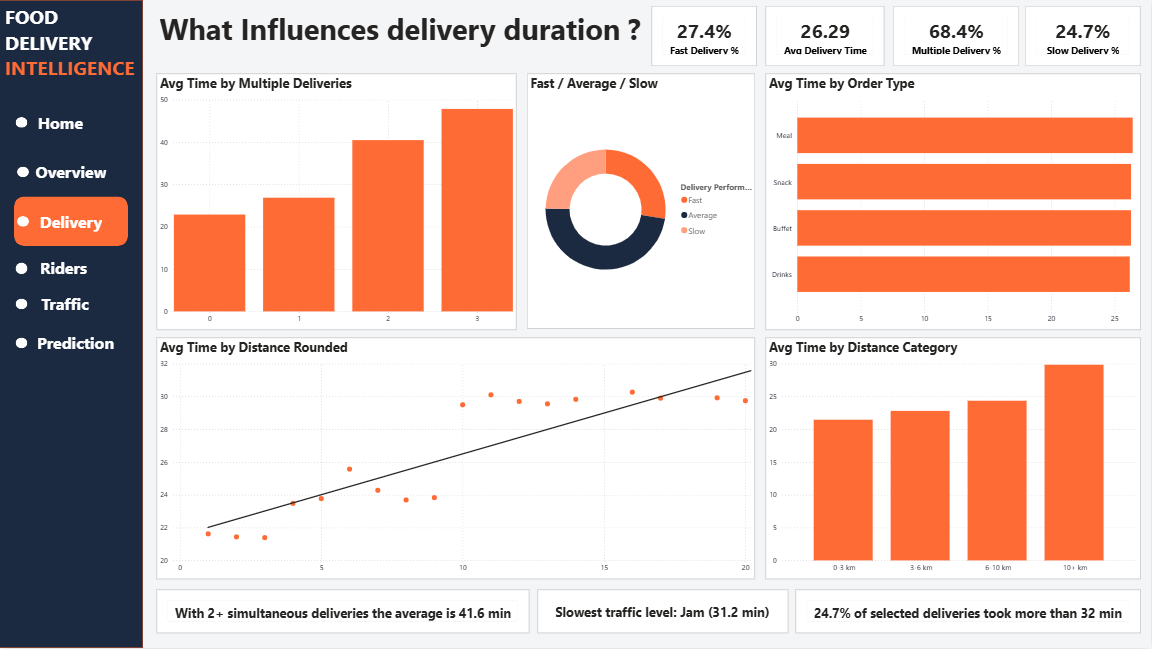

This screenshot's page, from the dashboard's own definition file:
{"tool":"powerbi","page":{"name":"Delivery","canvas":[1920,1080],"ordinal":2},"visuals":[{"type":"group","id":"g1","title":"Group 4","box":[0,0,241.2,1080],"z":0},{"type":"group","id":"g2","title":"Group 3","box":[0,0,241.2,1080],"z":0,"group":"g1"},{"type":"shape","box":[0,0,240,1080],"z":0,"group":"g3"},{"type":"shape","box":[8,162.5,190,82.5],"z":0,"group":"g5"},{"type":"shape","box":[25,245,190,82.5],"z":0,"group":"g4"},{"type":"shape","box":[25,327.5,190,82.5],"z":0,"group":"g6"},{"type":"shape","box":[13,401,190,90],"z":0,"group":"g7"},{"type":"shape","box":[15,465,190,82.5],"z":0,"group":"g8"},{"type":"shape","box":[31.4,530,190,82.5],"z":0,"group":"g9"},{"type":"textbox","box":[3.8,0,237.5,142.5],"z":1000,"group":"g3"},{"type":"shape","box":[29.1,195.4,20,18],"z":1000,"group":"g5"},{"type":"shape","box":[29.1,277.9,20,18],"z":1000,"group":"g4"},{"type":"shape","box":[29.1,360.4,20,18],"z":1000,"group":"g6"},{"type":"shape","box":[29.1,438.4,20,19.7],"z":1000,"group":"g7"},{"type":"shape","box":[28,497.9,20,18],"z":1000,"group":"g8"},{"type":"shape","box":[27.5,562.9,20,18],"z":1000,"group":"g9"},{"type":"cardVisual","fields":{"Data":["_Measures (2).Insight Multiple"]},"box":[262.5,982.5,621,72.5],"z":1000},{"type":"cardVisual","fields":{"Data":["_Measures (2).Insight Slow"]},"box":[1327.5,982.5,575,72.5],"z":2000},{"type":"cardVisual","fields":{"Data":["_Measures (2).Insight Traffic"]},"box":[897.5,982.5,418,72.5],"z":3000},{"type":"columnChart","title":"Avg Time by Distance Category","fields":{"Y":["_Measures (2).Avg Delivery Time"],"Category":["Fact Delivery.Distance Category"]},"box":[1277.5,562.5,625,402.5],"z":4000},{"type":"columnChart","title":"Avg Time by Multiple Deliveries","fields":{"Y":["_Measures (2).Avg Delivery Time"],"Category":["Fact Delivery.Multiple Deliveries"]},"box":[262.5,122.5,600,427.5],"z":5000},{"type":"group","id":"g3","title":"Group 1","box":[0,0,241.2,1080],"z":6000,"group":"g2"},{"type":"clusteredBarChart","title":"Avg Time by Order Type","fields":{"Category":["Fact Delivery.Order Type"],"Y":["_Measures (2).Avg Delivery Time"]},"box":[1277.5,122.5,625,427.5],"z":6000},{"type":"donutChart","title":"Fast / Average / Slow","fields":{"Category":["Fact Delivery.Delivery Performance"],"Y":["_Measures (2).Total Deliveries"]},"box":[880,122.5,380,425],"z":7000},{"type":"cardVisual","fields":{"Data":["_Measures (2).Avg Delivery Time"]},"box":[1277,10,198,100],"z":8000},{"type":"cardVisual","fields":{"Data":["_Measures (2).Multiple Delivery %"]},"box":[1490,10,210,100],"z":9000},{"type":"cardVisual","fields":{"Data":["_Measures (2).Fast Delivery %"]},"box":[1087.5,10,175,100],"z":10000},{"type":"cardVisual","fields":{"Data":["_Measures (2).Slow Delivery %"]},"box":[1711,10,192.5,100],"z":11000},{"type":"textbox","box":[262.5,10,845,80],"z":12000},{"type":"group","id":"g4","title":"Group 2","box":[25,245,190,82.5],"z":13000,"group":"g2"},{"type":"lineChart","title":"Avg Time by Distance Rounded","fields":{"Y":["_Measures (2).Avg Delivery Time"],"Category":["Fact Delivery.Distance Rounded"]},"box":[262.5,562.5,997.5,402.5],"z":13000},{"type":"group","id":"g5","title":"Group 2","box":[8,162.5,190,82.5],"z":14000,"group":"g2"},{"type":"group","id":"g6","title":"Group 2","box":[25,327.5,190,82.5],"z":15000,"group":"g2"},{"type":"group","id":"g7","title":"Group 2","box":[13,401,190,90],"z":17000,"group":"g2"},{"type":"group","id":"g8","title":"Group 2","box":[15,465,190,82.5],"z":18000,"group":"g1"},{"type":"group","id":"g9","title":"Group 2","box":[27.5,530,192.5,82.5],"z":18000,"group":"g2"}]}

Visuals, with their boxes in screenshot pixels (x1, y1, x2, y2), scaled from the page's 1920x1080 canvas onto the 1152x649 screenshot:
"Group 4" group: {"left": 0, "top": 0, "right": 145, "bottom": 648}
"Group 3" group: {"left": 0, "top": 0, "right": 145, "bottom": 648}
shape: {"left": 0, "top": 0, "right": 144, "bottom": 648}
shape: {"left": 5, "top": 98, "right": 119, "bottom": 147}
shape: {"left": 15, "top": 147, "right": 129, "bottom": 197}
shape: {"left": 15, "top": 197, "right": 129, "bottom": 246}
shape: {"left": 8, "top": 241, "right": 122, "bottom": 295}
shape: {"left": 9, "top": 279, "right": 123, "bottom": 329}
shape: {"left": 19, "top": 318, "right": 133, "bottom": 368}
textbox: {"left": 2, "top": 0, "right": 145, "bottom": 86}
shape: {"left": 17, "top": 117, "right": 29, "bottom": 128}
shape: {"left": 17, "top": 167, "right": 29, "bottom": 178}
shape: {"left": 17, "top": 217, "right": 29, "bottom": 227}
shape: {"left": 17, "top": 263, "right": 29, "bottom": 275}
shape: {"left": 17, "top": 299, "right": 29, "bottom": 310}
shape: {"left": 16, "top": 338, "right": 28, "bottom": 349}
cardVisual - _Measures (2).Insight Multiple: {"left": 158, "top": 590, "right": 530, "bottom": 634}
cardVisual - _Measures (2).Insight Slow: {"left": 796, "top": 590, "right": 1142, "bottom": 634}
cardVisual - _Measures (2).Insight Traffic: {"left": 538, "top": 590, "right": 789, "bottom": 634}
"Avg Time by Distance Category" columnChart: {"left": 766, "top": 338, "right": 1142, "bottom": 580}
"Avg Time by Multiple Deliveries" columnChart: {"left": 158, "top": 74, "right": 518, "bottom": 331}
"Group 1" group: {"left": 0, "top": 0, "right": 145, "bottom": 648}
"Avg Time by Order Type" clusteredBarChart: {"left": 766, "top": 74, "right": 1142, "bottom": 331}
"Fast / Average / Slow" donutChart: {"left": 528, "top": 74, "right": 756, "bottom": 329}
cardVisual - _Measures (2).Avg Delivery Time: {"left": 766, "top": 6, "right": 885, "bottom": 66}
cardVisual - _Measures (2).Multiple Delivery %: {"left": 894, "top": 6, "right": 1020, "bottom": 66}
cardVisual - _Measures (2).Fast Delivery %: {"left": 652, "top": 6, "right": 758, "bottom": 66}
cardVisual - _Measures (2).Slow Delivery %: {"left": 1027, "top": 6, "right": 1142, "bottom": 66}
textbox: {"left": 158, "top": 6, "right": 664, "bottom": 54}
"Group 2" group: {"left": 15, "top": 147, "right": 129, "bottom": 197}
"Avg Time by Distance Rounded" lineChart: {"left": 158, "top": 338, "right": 756, "bottom": 580}
"Group 2" group: {"left": 5, "top": 98, "right": 119, "bottom": 147}
"Group 2" group: {"left": 15, "top": 197, "right": 129, "bottom": 246}
"Group 2" group: {"left": 8, "top": 241, "right": 122, "bottom": 295}
"Group 2" group: {"left": 9, "top": 279, "right": 123, "bottom": 329}
"Group 2" group: {"left": 16, "top": 318, "right": 132, "bottom": 368}
